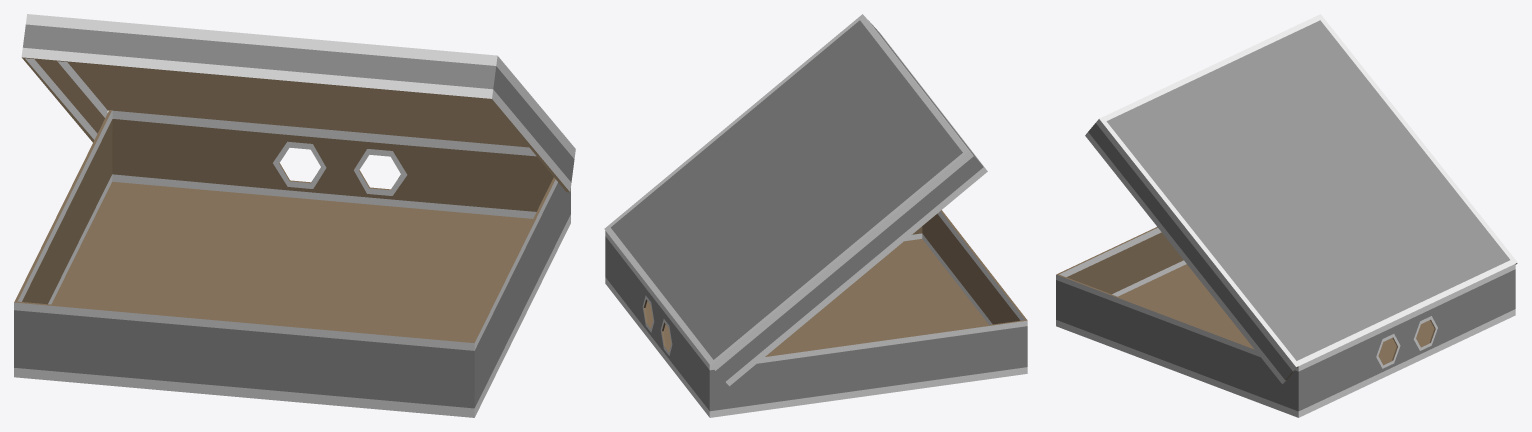
Rendered from pizza-box.fbx.
The picture shows the model from 3 angles, left to right: view 1: azimuth 30°, elevation 25°; view 2: azimuth 150°, elevation 25°; view 3: azimuth 270°, elevation 25°; orthographic projection. The views are drawn at different scales.
Visible parts, largest first — view 1: Pizza box; view 2: Pizza box; view 3: Pizza box.
Part boxes in pixels (<box>): Pizza box: <box>14,14,575,417</box>; Pizza box: <box>604,14,1027,417</box>; Pizza box: <box>1056,14,1517,417</box>.
Bounding box in the file's own units: 81.89 × 44.15 × 81.84.
